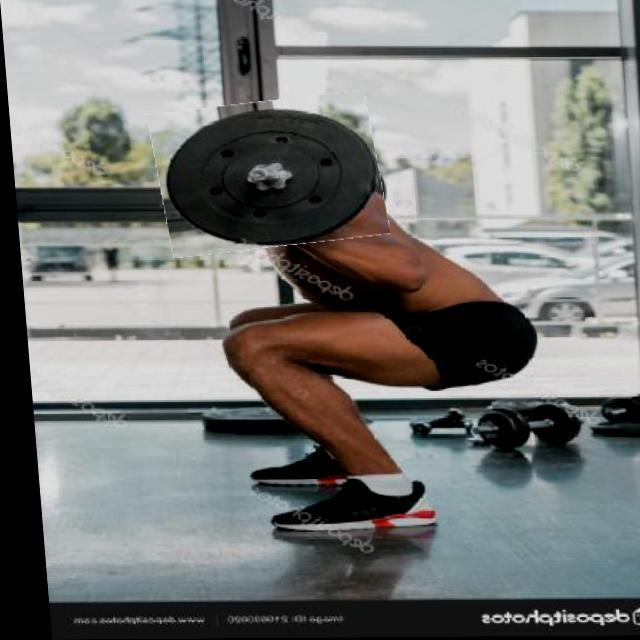barbell: (148, 98, 384, 253)
